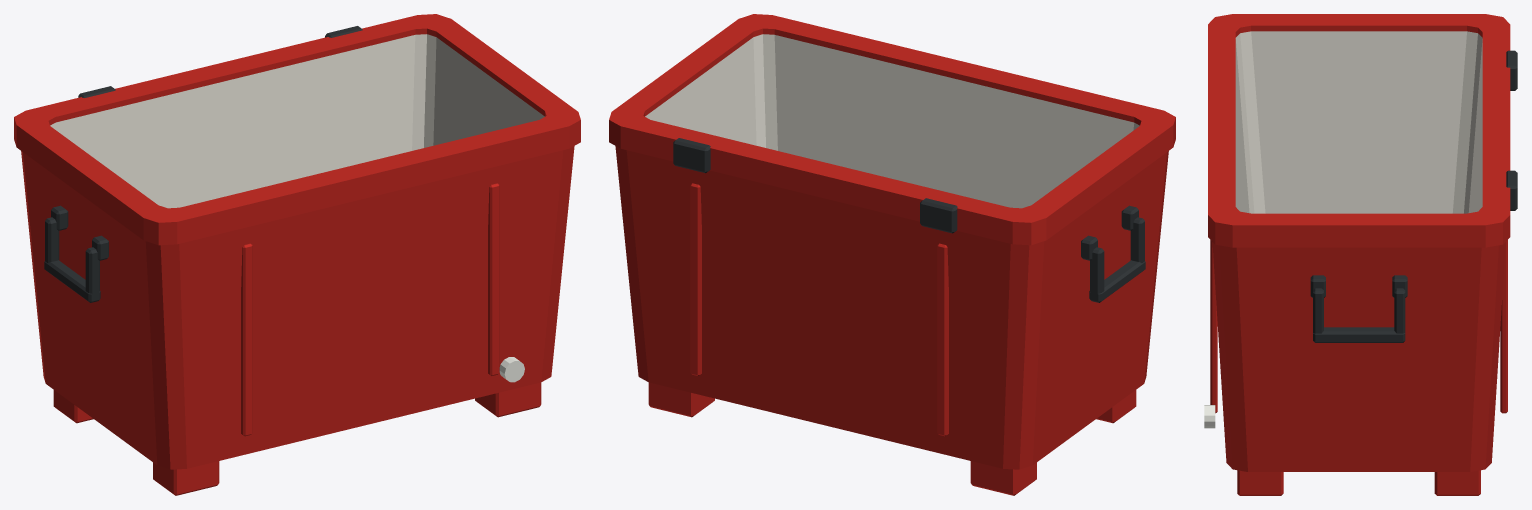
File: cooler_body.glb
The picture shows the model from 3 angles, left to right: view 1: azimuth 30°, elevation 25°; view 2: azimuth 150°, elevation 25°; view 3: azimuth 270°, elevation 25°; orthographic projection.
Visible parts, largest first — view 1: Cooler_Body_Game; view 2: Cooler_Body_Game; view 3: Cooler_Body_Game.
Boxes of the visible parts, <box> form: Cooler_Body_Game: <box>14,14,580,495</box>; Cooler_Body_Game: <box>609,14,1175,495</box>; Cooler_Body_Game: <box>1204,14,1517,495</box>.
Bounding box in the file's own units: 0.8613 × 0.5175 × 0.508.
